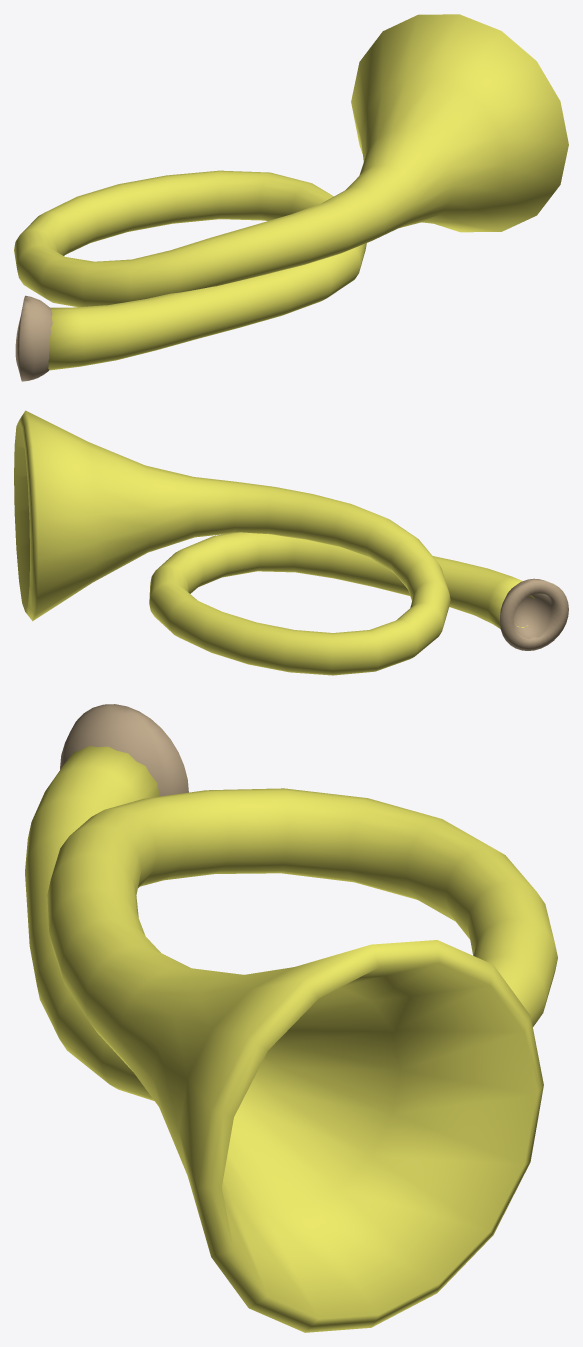
Rendered from trumpet_model.fbx.
3 renders of one model, top to bottom at view 1: azimuth 30°, elevation 25°; view 2: azimuth 150°, elevation 25°; view 3: azimuth 270°, elevation 25°, orthographic. The views are drawn at different scales.
Parts seen in each view (by area): view 1: Cylinder; view 2: Cylinder; view 3: Cylinder.
Part boxes in pixels (box(x1,y1,x2,y2)): Cylinder: box(14, 14, 568, 381); Cylinder: box(14, 410, 568, 675); Cylinder: box(25, 704, 557, 1332).
Bounding box in the file's own units: 229 × 81.39 × 103.
